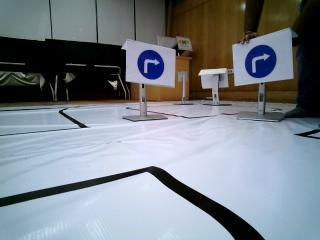right: (235, 44, 293, 82), (130, 42, 173, 86)
